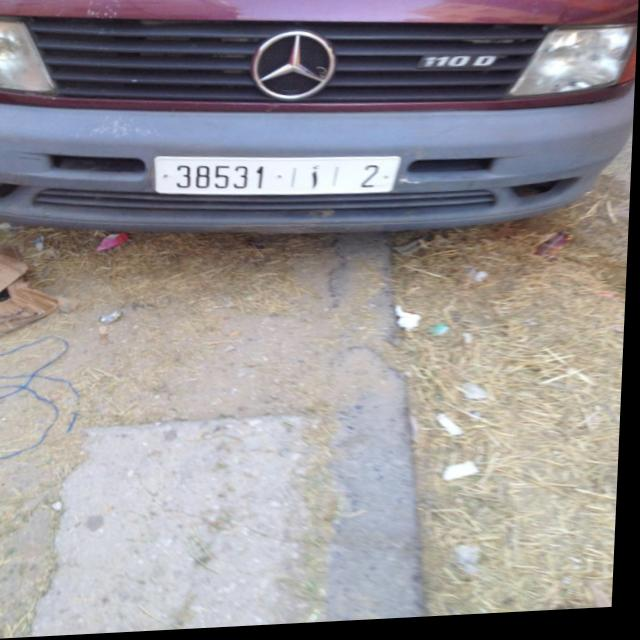License-Plate: (156, 158, 402, 199)
